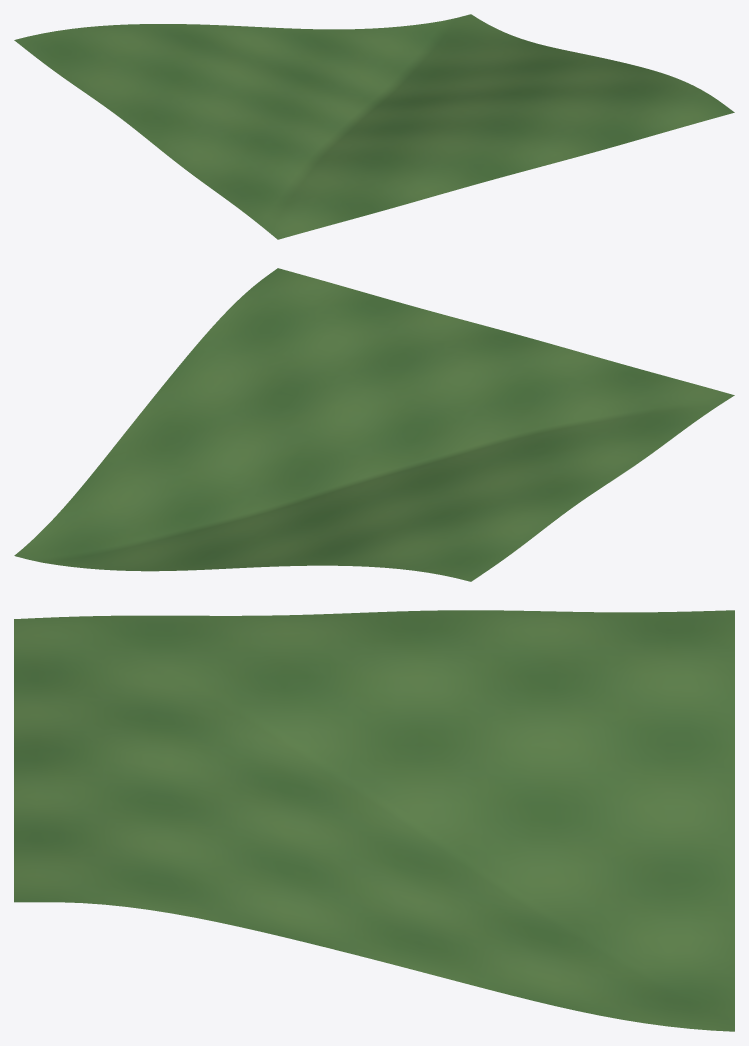
The model's file is chunk_0_12.glb.
The picture shows the model from 3 angles, top to bottom: view 1: azimuth 30°, elevation 25°; view 2: azimuth 150°, elevation 25°; view 3: azimuth 270°, elevation 25°; orthographic projection. The views are drawn at different scales.
Bounding box in the file's own units: 512 × 102 × 512.
